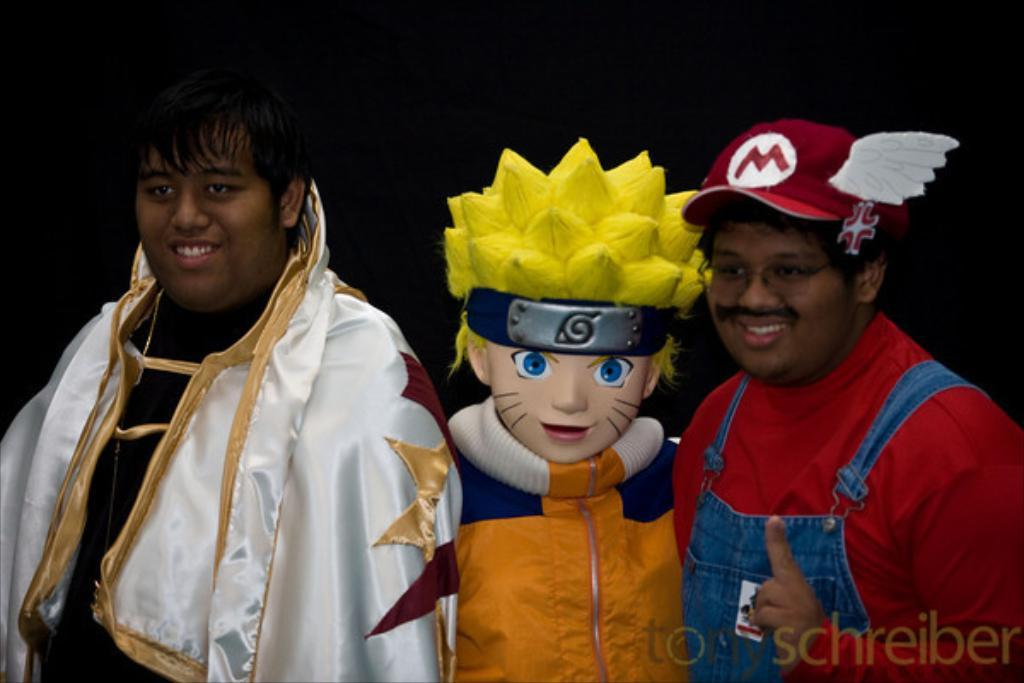Hat: (679, 117, 908, 247)
